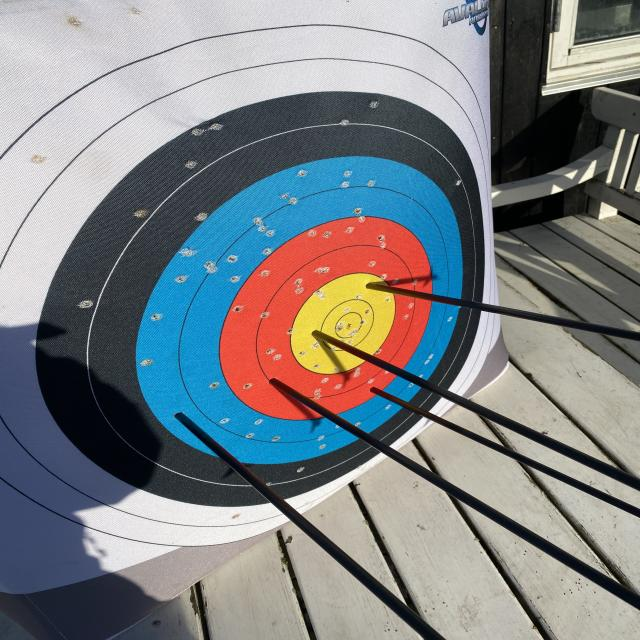Arrow_Blue: (152, 407, 244, 457)
Arrow_Red: (245, 360, 298, 402), (352, 374, 406, 408)
Arrow_Yellow: (342, 271, 412, 318), (294, 310, 344, 356)
